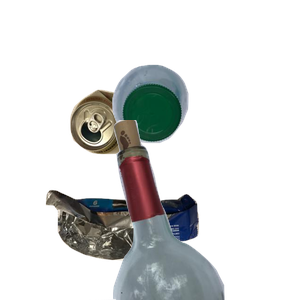glass: (89, 120, 300, 300)
metal: (67, 87, 206, 234)
plastic: (110, 62, 300, 198)
trash: (43, 187, 234, 300)
